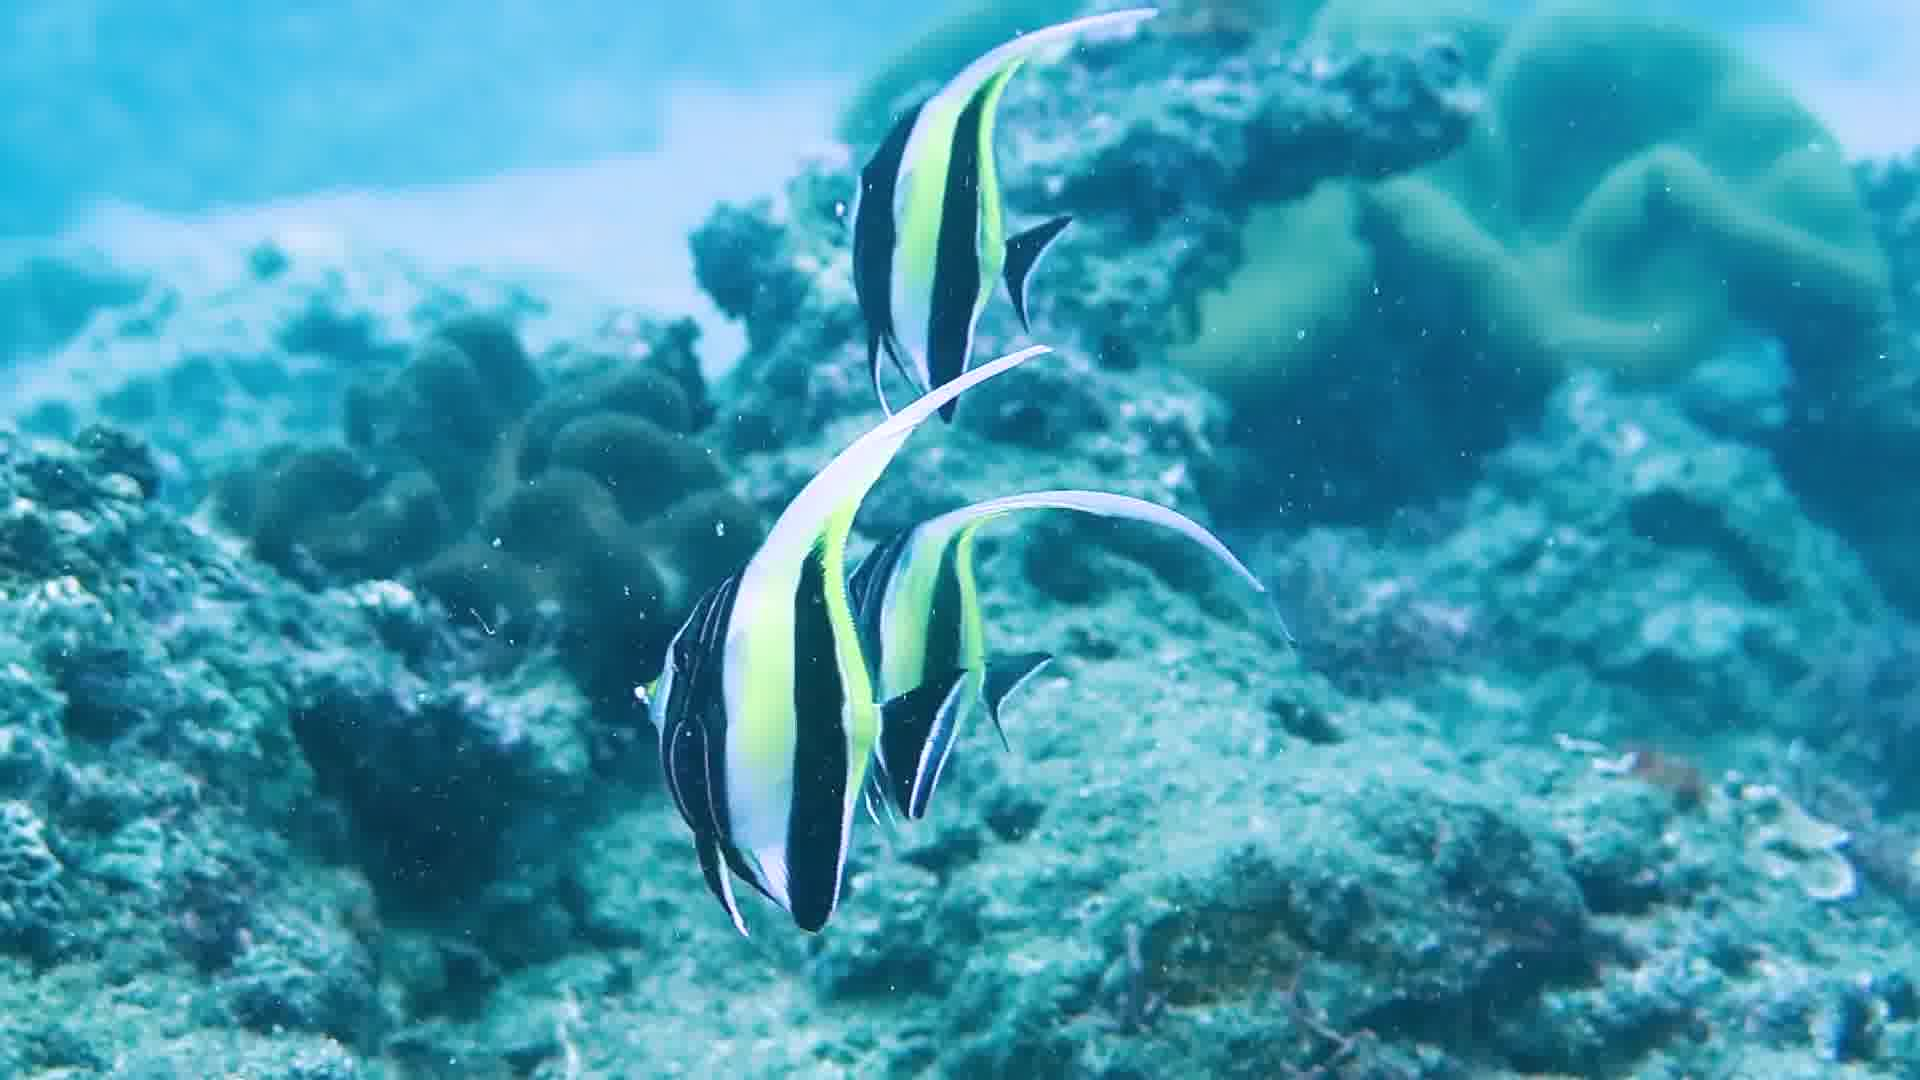Zanclus cornutus: (585, 487, 1025, 956), (764, 40, 1105, 425)
